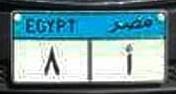8: (43, 44, 62, 78)
alif: (122, 43, 136, 76)
